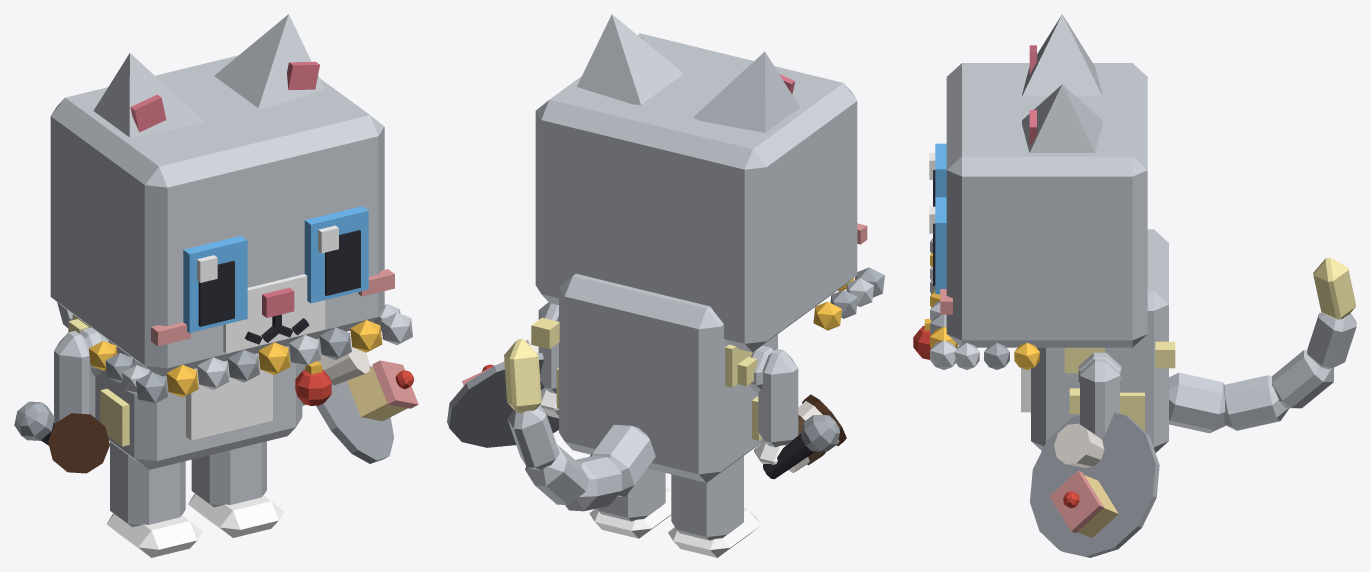
Rendered from CatCafe_Cat_Tinsel_Work.fbx.
3 views of the same model, side by side, from view 1: azimuth 30°, elevation 25°; view 2: azimuth 150°, elevation 25°; view 3: azimuth 270°, elevation 25° (orthographic). The views are drawn at different scales.
Visible parts, largest first — view 1: CatCafe_Cat_Tinsel_Work_Head, CatCafe_Cat_Tinsel_Work_Body, CatCafe_Cat_Tinsel_Work_Prop, CatCafe_Cat_Tinsel_Work_Held_Waiter, CatCafe_Cat_Tinsel_Work_LegB2, CatCafe_Cat_Tinsel_Work_LegB1, CatCafe_Cat_Tinsel_Work_EarL, CatCafe_Cat_Tinsel_Work_Eye2, CatCafe_Cat_Tinsel_Work_Eye1, CatCafe_Cat_Tinsel_Work_EarR, CatCafe_Cat_Tinsel_Work_LegF2, CatCafe_Cat_Tinsel_Work_Held_Barista (+1 smaller); view 2: CatCafe_Cat_Tinsel_Work_Head, CatCafe_Cat_Tinsel_Work_Body, CatCafe_Cat_Tinsel_Work_Tail, CatCafe_Cat_Tinsel_Work_LegB2, CatCafe_Cat_Tinsel_Work_EarL, CatCafe_Cat_Tinsel_Work_EarR, CatCafe_Cat_Tinsel_Work_Held_Waiter, CatCafe_Cat_Tinsel_Work_LegF2, CatCafe_Cat_Tinsel_Work_LegB1, CatCafe_Cat_Tinsel_Work_Prop, CatCafe_Cat_Tinsel_Work_Held_Entertainer, CatCafe_Cat_Tinsel_Work_LegF1 (+1 smaller); view 3: CatCafe_Cat_Tinsel_Work_Head, CatCafe_Cat_Tinsel_Work_Held_Waiter, CatCafe_Cat_Tinsel_Work_Body, CatCafe_Cat_Tinsel_Work_Tail, CatCafe_Cat_Tinsel_Work_EarR, CatCafe_Cat_Tinsel_Work_EarL, CatCafe_Cat_Tinsel_Work_Prop, CatCafe_Cat_Tinsel_Work_LegF1, CatCafe_Cat_Tinsel_Work_Eye1, CatCafe_Cat_Tinsel_Work_Eye2.
Part boxes in pixels (bbox=[...]): CatCafe_Cat_Tinsel_Work_Head: bbox=[50, 55, 394, 376]; CatCafe_Cat_Tinsel_Work_Body: bbox=[68, 314, 302, 469]; CatCafe_Cat_Tinsel_Work_Prop: bbox=[88, 304, 412, 405]; CatCafe_Cat_Tinsel_Work_Held_Waiter: bbox=[302, 331, 418, 463]; CatCafe_Cat_Tinsel_Work_LegB2: bbox=[107, 442, 202, 557]; CatCafe_Cat_Tinsel_Work_LegB1: bbox=[188, 441, 284, 537]; CatCafe_Cat_Tinsel_Work_EarL: bbox=[214, 14, 324, 108]; CatCafe_Cat_Tinsel_Work_Eye2: bbox=[183, 235, 247, 332]; CatCafe_Cat_Tinsel_Work_Eye1: bbox=[304, 206, 368, 303]; CatCafe_Cat_Tinsel_Work_EarR: bbox=[93, 53, 204, 137]; CatCafe_Cat_Tinsel_Work_LegF2: bbox=[54, 331, 95, 422]; CatCafe_Cat_Tinsel_Work_Held_Barista: bbox=[48, 413, 109, 473]; CatCafe_Cat_Tinsel_Work_Head: bbox=[535, 33, 867, 352]; CatCafe_Cat_Tinsel_Work_Body: bbox=[531, 273, 777, 482]; CatCafe_Cat_Tinsel_Work_Tail: bbox=[504, 339, 655, 511]; CatCafe_Cat_Tinsel_Work_LegB2: bbox=[668, 456, 760, 557]; CatCafe_Cat_Tinsel_Work_EarL: bbox=[577, 14, 683, 104]; CatCafe_Cat_Tinsel_Work_EarR: bbox=[693, 51, 799, 132]; CatCafe_Cat_Tinsel_Work_Held_Waiter: bbox=[447, 338, 558, 447]; CatCafe_Cat_Tinsel_Work_LegF2: bbox=[754, 348, 798, 464]; CatCafe_Cat_Tinsel_Work_LegB1: bbox=[589, 468, 671, 538]; CatCafe_Cat_Tinsel_Work_Prop: bbox=[813, 267, 884, 330]; CatCafe_Cat_Tinsel_Work_Held_Entertainer: bbox=[763, 415, 839, 479]; CatCafe_Cat_Tinsel_Work_LegF1: bbox=[538, 302, 558, 418]; CatCafe_Cat_Tinsel_Work_Head: bbox=[940, 63, 1147, 347]; CatCafe_Cat_Tinsel_Work_Held_Waiter: bbox=[1030, 413, 1159, 557]; CatCafe_Cat_Tinsel_Work_Body: bbox=[1021, 229, 1175, 452]; CatCafe_Cat_Tinsel_Work_Tail: bbox=[1169, 257, 1356, 433]; CatCafe_Cat_Tinsel_Work_EarR: bbox=[1022, 14, 1102, 96]; CatCafe_Cat_Tinsel_Work_EarL: bbox=[1022, 84, 1102, 152]; CatCafe_Cat_Tinsel_Work_Prop: bbox=[913, 238, 1039, 369]; CatCafe_Cat_Tinsel_Work_LegF1: bbox=[1080, 359, 1119, 438]; CatCafe_Cat_Tinsel_Work_Eye1: bbox=[929, 197, 946, 294]; CatCafe_Cat_Tinsel_Work_Eye2: bbox=[929, 143, 946, 206].
Bounding box in the file's own units: 1.53 × 1.93 × 1.68.
Materials: 1 (1 with a texture image).
